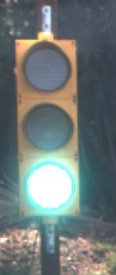Green: (6, 10, 95, 236)
